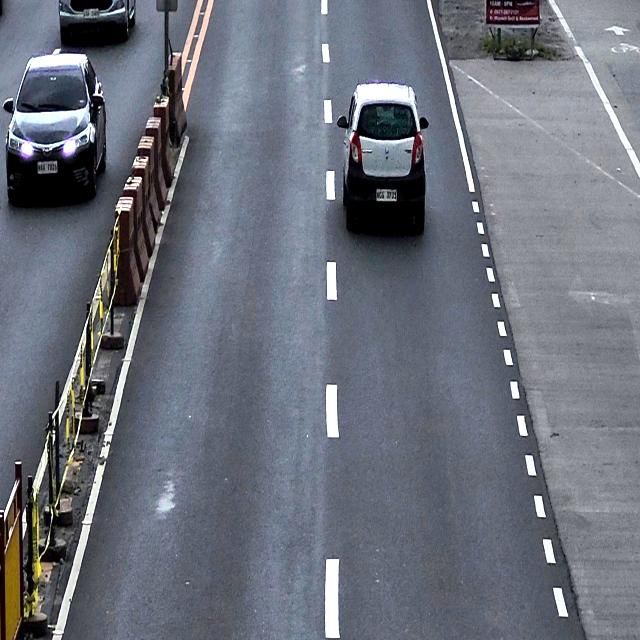Car: (2, 48, 107, 203), (337, 80, 429, 236), (57, 0, 136, 43)
License-Plate: (36, 160, 58, 174), (375, 189, 398, 202), (82, 8, 101, 19)
